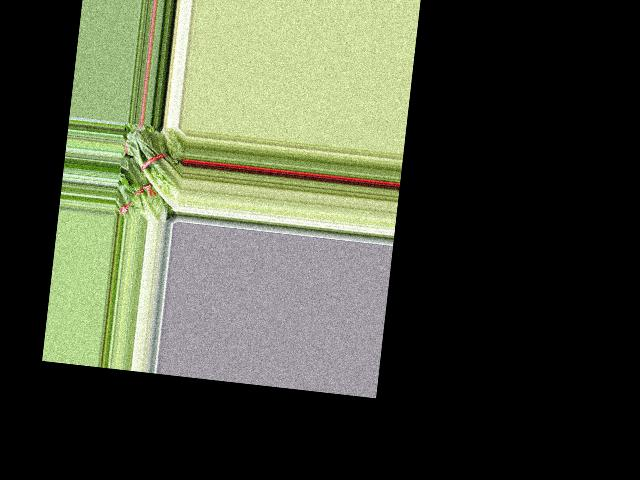lettuce: (118, 126, 187, 210)
